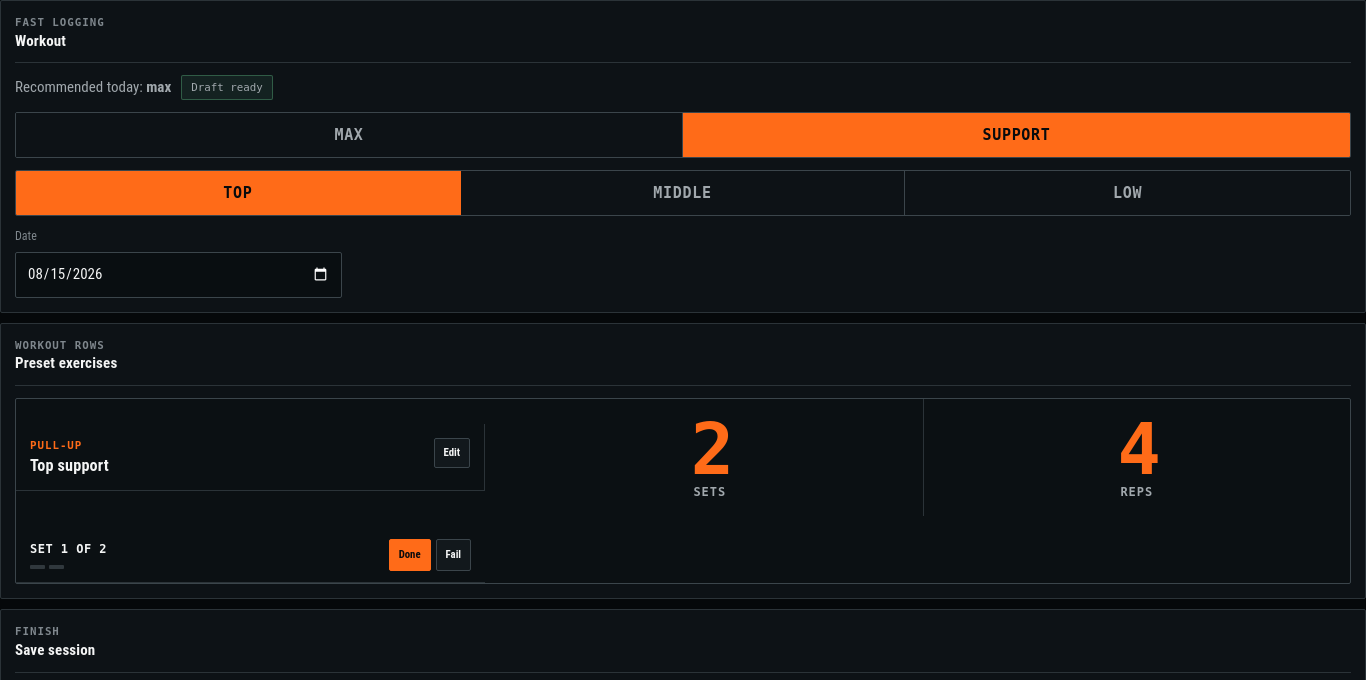
Scenario: LogWorkoutScreen preset rows › lets support workouts switch between top, middle, and low presets
The width and height of the screenshot is (1366, 680).
Check: the element named "top target" is shown, box [497,399,1156,516]
Click the button "low": x=1128, y=193 [905,171,1350,215]
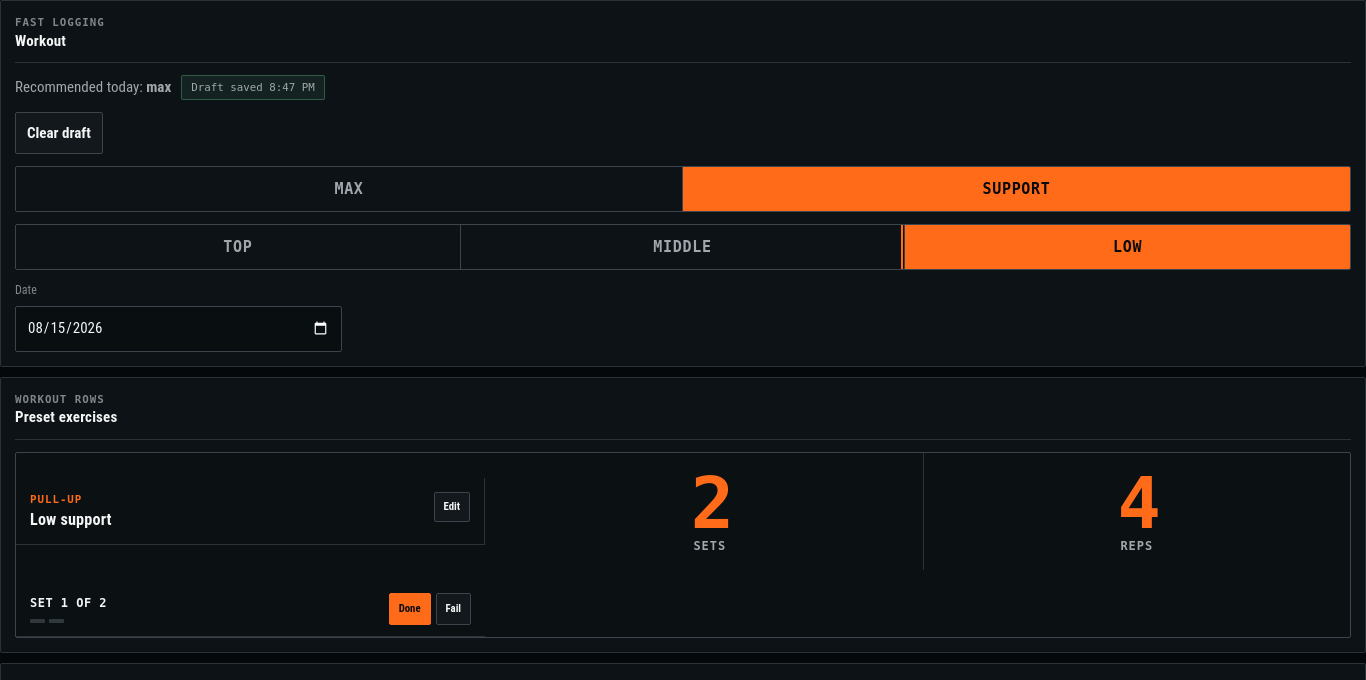
Check: the element named "low target" is shown, box [497,453,1156,570]
